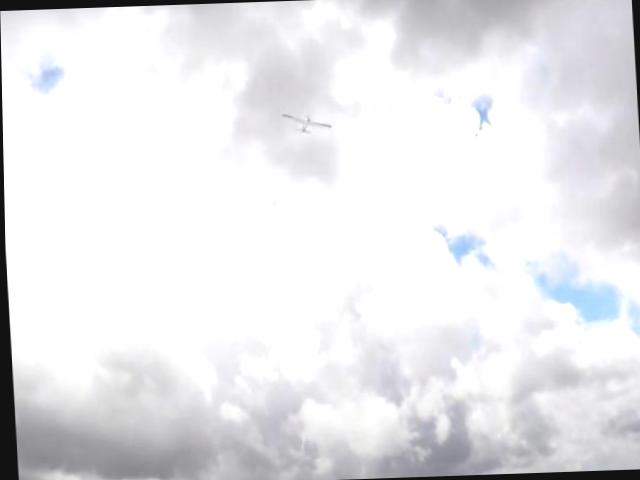iha: (278, 110, 338, 142)
